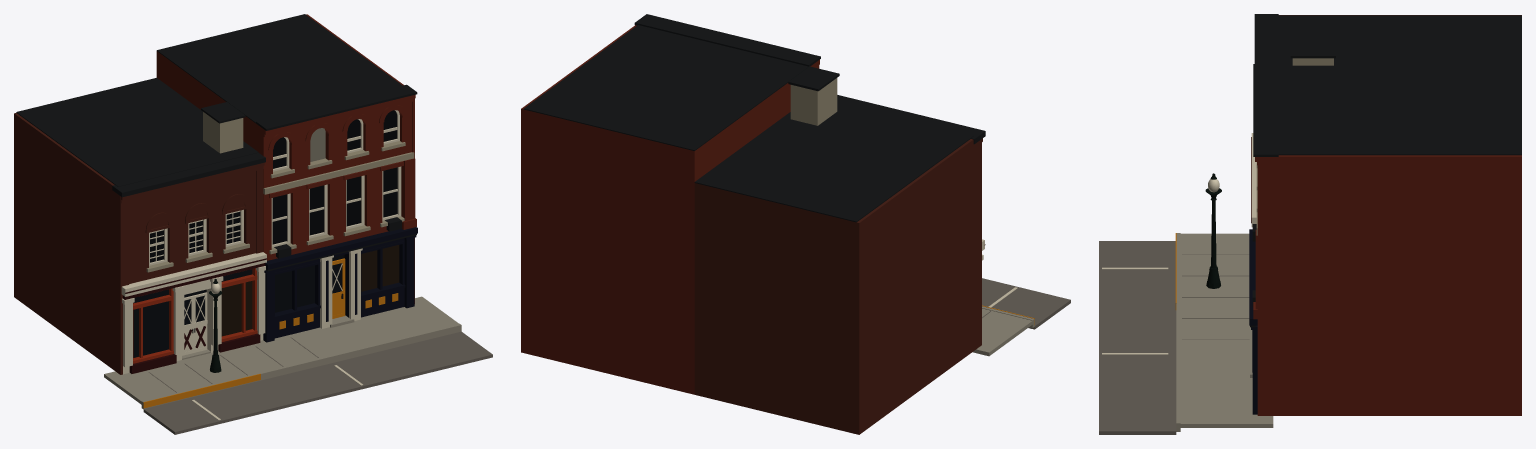
The model's file is RossvilleStorefront.obj.
3 renders of one model, left to right at view 1: azimuth 30°, elevation 25°; view 2: azimuth 150°, elevation 25°; view 3: azimuth 270°, elevation 25°, orthographic. The views are drawn at different scales.
Parts seen in each view (by area): view 1: RossvilleStorefront; view 2: RossvilleStorefront; view 3: RossvilleStorefront.
Part boxes in pixels (x1=…): RossvilleStorefront: x1=14, y1=14, x2=492, y2=434; RossvilleStorefront: x1=521, y1=14, x2=1070, y2=434; RossvilleStorefront: x1=1099, y1=14, x2=1521, y2=434.
Bounding box in the file's own units: 16.3 × 11.08 × 15.3.
